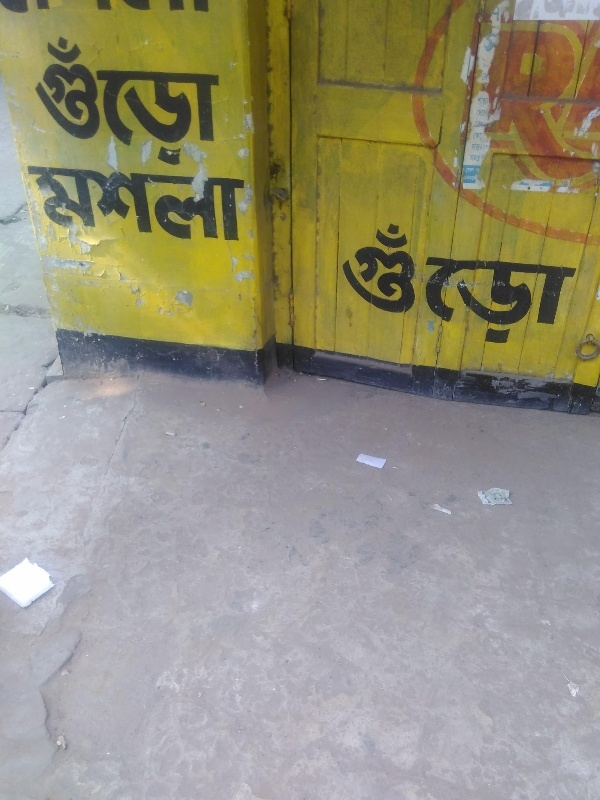text: (497, 25, 512, 192), (513, 25, 528, 192), (529, 25, 544, 192), (545, 25, 560, 192), (561, 25, 576, 192), (577, 25, 592, 192), (483, 25, 496, 192), (49, 31, 64, 171), (65, 31, 80, 171), (81, 31, 96, 171), (97, 31, 112, 171), (113, 31, 128, 171), (129, 31, 144, 171), (145, 31, 160, 171), (161, 31, 176, 171), (177, 31, 192, 171), (193, 31, 208, 171), (353, 215, 368, 352), (369, 215, 384, 352), (385, 215, 400, 352), (401, 215, 416, 352), (417, 215, 432, 352), (433, 215, 448, 352), (449, 215, 464, 352), (465, 215, 480, 352), (481, 215, 496, 352), (497, 215, 512, 352), (513, 215, 528, 352), (529, 215, 544, 352), (545, 215, 560, 352), (561, 215, 576, 352), (209, 31, 222, 171), (36, 31, 48, 171), (340, 215, 352, 352), (33, 165, 48, 243), (49, 165, 64, 243), (65, 165, 80, 243), (81, 165, 96, 243), (97, 165, 112, 243), (113, 165, 128, 243), (129, 165, 144, 243), (145, 165, 160, 243), (161, 165, 176, 243), (177, 165, 192, 243), (193, 165, 208, 243), (209, 165, 224, 243), (225, 165, 240, 243), (593, 25, 599, 192), (577, 215, 583, 352), (241, 165, 248, 243), (26, 165, 32, 243), (17, 1, 32, 21), (33, 1, 48, 21), (49, 1, 64, 21), (65, 1, 80, 21), (81, 1, 96, 21), (97, 1, 112, 21), (113, 1, 128, 21), (129, 1, 144, 21), (145, 1, 160, 21), (161, 1, 176, 21), (177, 1, 192, 21), (193, 1, 208, 21), (209, 1, 224, 21), (5, 1, 16, 21), (225, 1, 233, 21)
